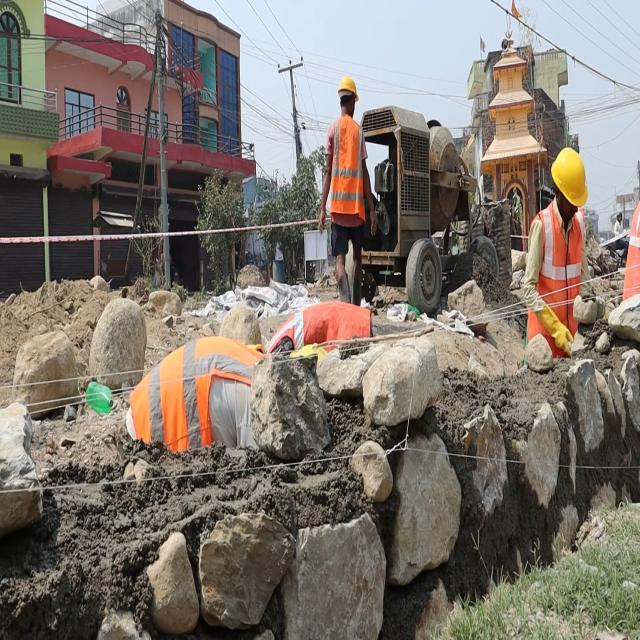worker: (534, 140, 589, 343), (326, 72, 369, 302)
